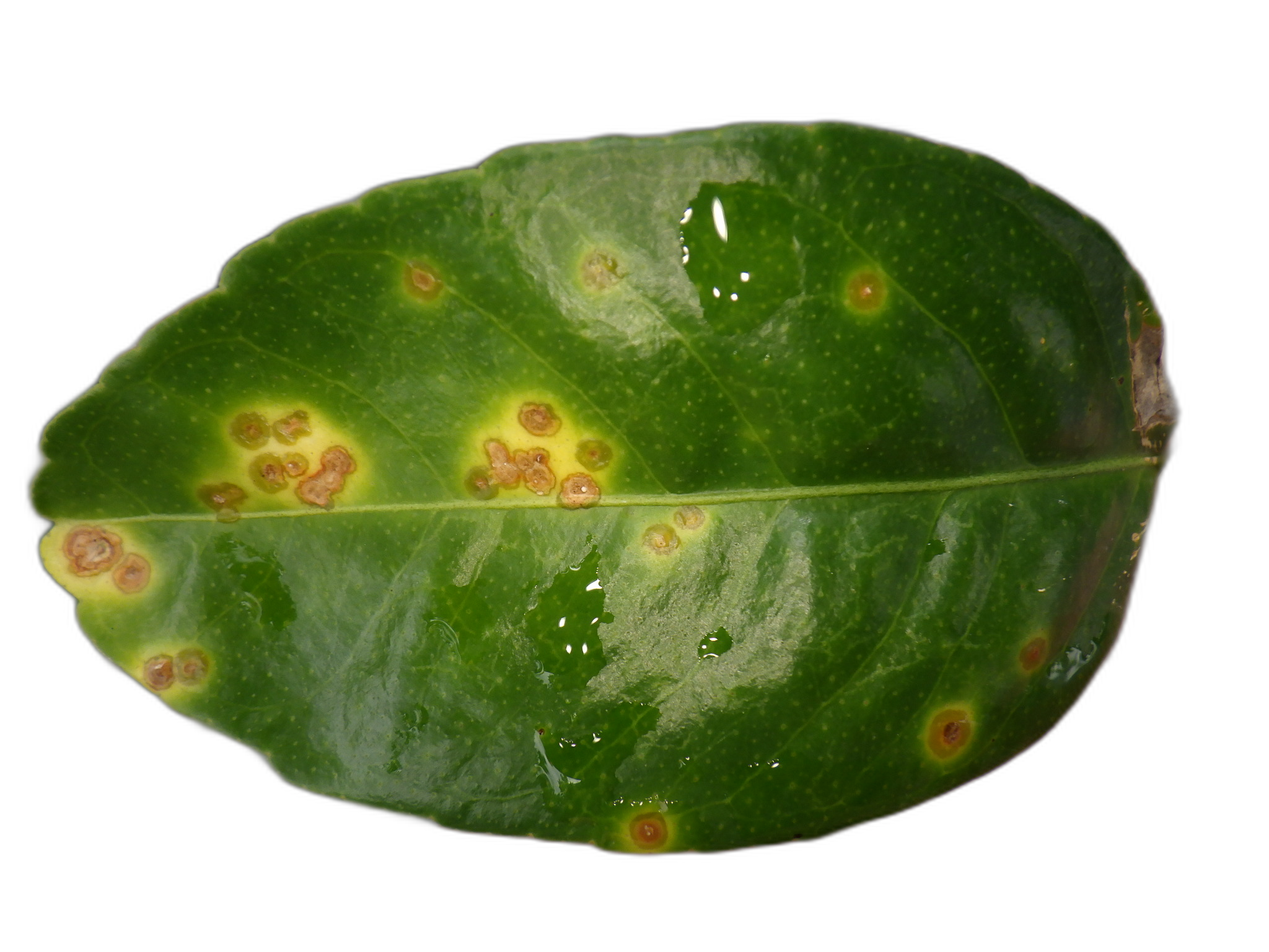Canker: (463, 438, 562, 499), (296, 445, 359, 512), (61, 526, 122, 578), (247, 445, 309, 495), (927, 705, 972, 759), (195, 482, 248, 526), (114, 554, 152, 596), (140, 647, 175, 691), (517, 402, 561, 435), (229, 412, 268, 449), (630, 813, 669, 849), (558, 473, 600, 506), (848, 273, 886, 309), (639, 524, 679, 554), (177, 651, 208, 684), (672, 504, 708, 532), (276, 411, 310, 440), (1021, 636, 1049, 670), (407, 265, 437, 293), (584, 445, 604, 465)
